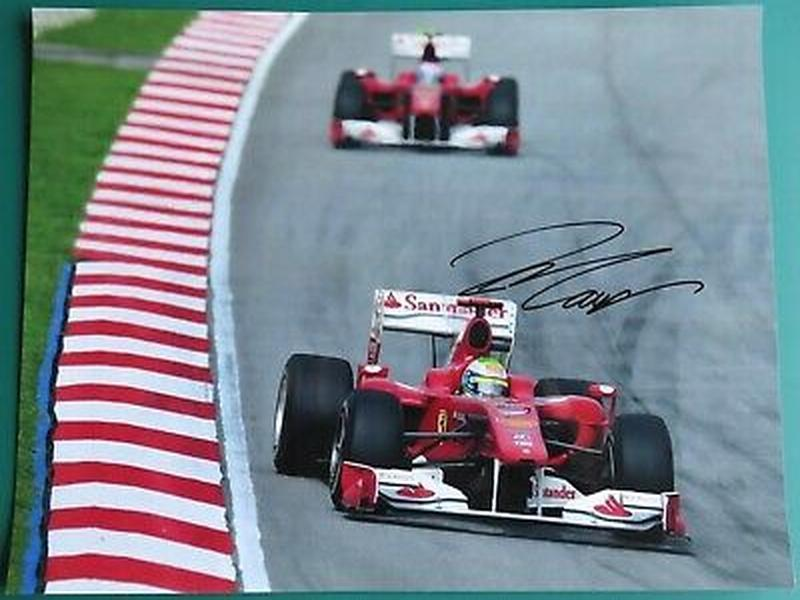f1: (246, 266, 728, 570), (327, 28, 536, 153)
